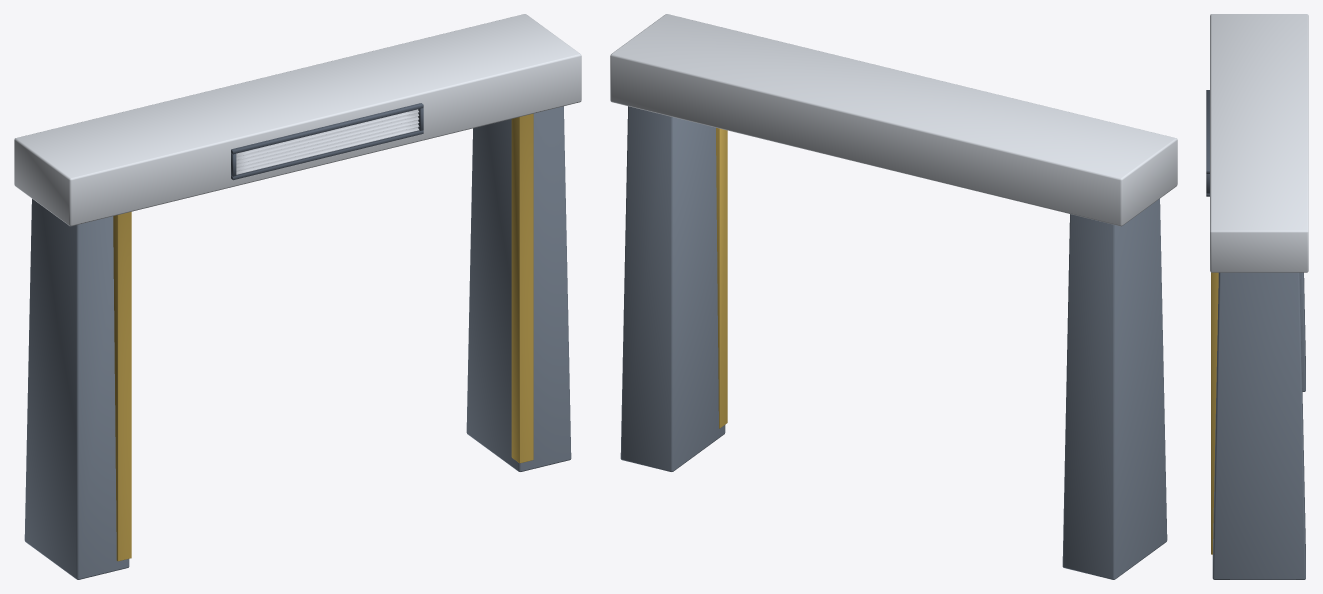
File: drydock_gantry_arch.glb
The picture shows the model from 3 angles, left to right: view 1: azimuth 30°, elevation 25°; view 2: azimuth 150°, elevation 25°; view 3: azimuth 270°, elevation 25°; orthographic projection. The views are drawn at different scales.
Visible parts, largest first — view 1: PropBody_A2_SlateArmor, PropBody_A2_OrbitalCeramic, PropBody_A2_SignalGold, PropBody_A2_ChromeTitanium, PropBody_A2_SlateFrame; view 2: PropBody_A2_SlateArmor, PropBody_A2_OrbitalCeramic, PropBody_A2_SignalGold; view 3: PropBody_A2_SlateArmor, PropBody_A2_OrbitalCeramic, PropBody_A2_SignalGold, PropBody_A2_SlateFrame.
Boxes of the visible parts, box(x1,y1,x2,y2) form: PropBody_A2_SlateArmor: box(24, 106, 571, 579); PropBody_A2_OrbitalCeramic: box(14, 14, 581, 226); PropBody_A2_SignalGold: box(113, 113, 533, 561); PropBody_A2_ChromeTitanium: box(236, 109, 419, 174); PropBody_A2_SlateFrame: box(231, 103, 423, 180); PropBody_A2_SlateArmor: box(620, 106, 1167, 579); PropBody_A2_OrbitalCeramic: box(610, 14, 1177, 226); PropBody_A2_SignalGold: box(716, 127, 727, 428); PropBody_A2_SlateArmor: box(1212, 272, 1305, 579); PropBody_A2_OrbitalCeramic: box(1210, 14, 1308, 272); PropBody_A2_SignalGold: box(1211, 272, 1218, 554); PropBody_A2_SlateFrame: box(1206, 90, 1209, 196).
Bounding box in the file's own units: 10.2 × 7.71 × 2.03.
